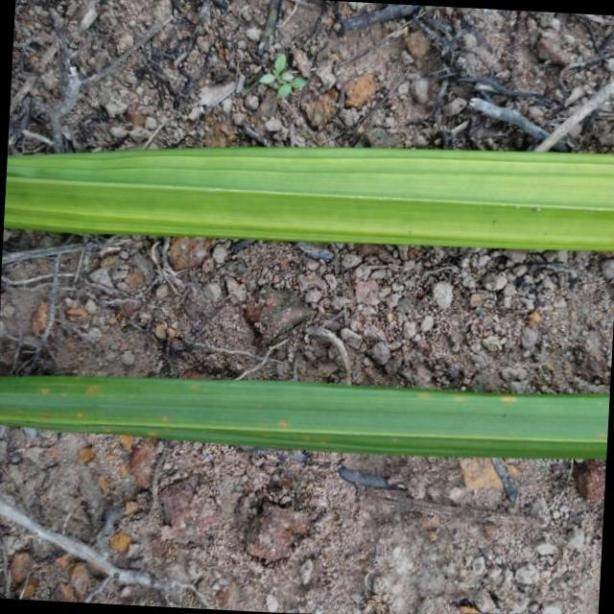nitrogen: (0, 142, 614, 254), (3, 367, 614, 466)
